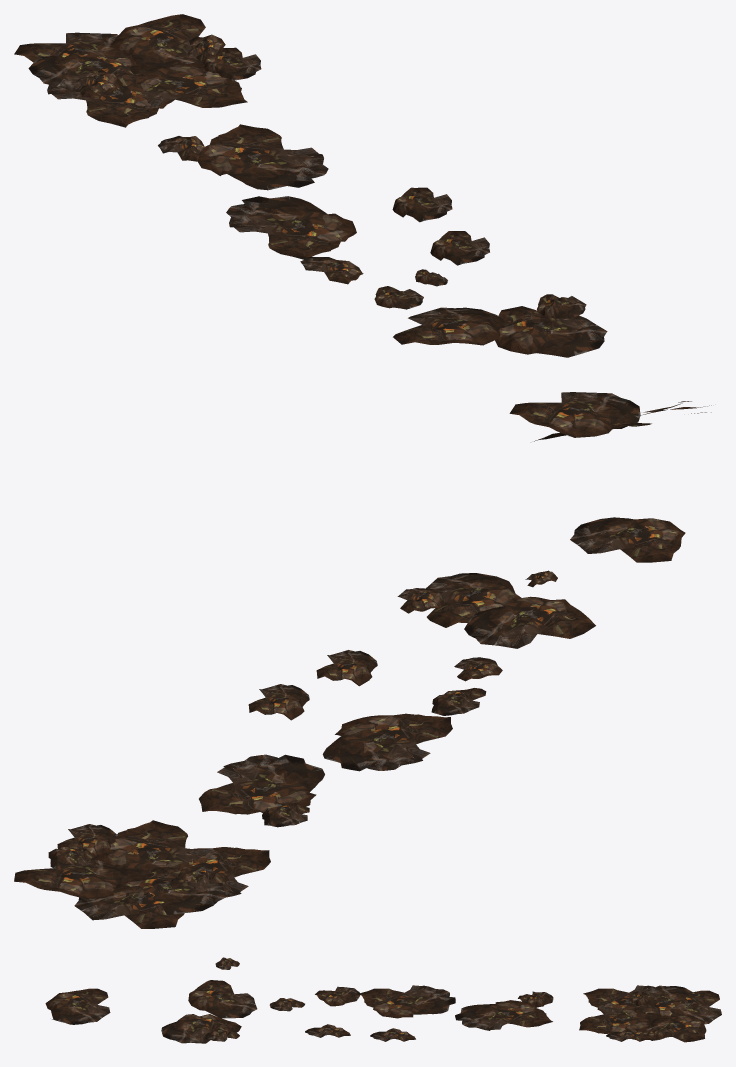
File: SM_streetgarbage.fbx
3 views of the same model, one above another, from view 1: azimuth 30°, elevation 25°; view 2: azimuth 150°, elevation 25°; view 3: azimuth 270°, elevation 25° (orthographic). The views are drawn at different scales.
Parts seen in each view (by area): view 1: SM_grbge9, SM_grbge13, SM_grbge3, SM_grbge23, SM_grbge16, SM_grbge19, SM_grbge4, SM_grbge18, SM_grbge14, SM_grbge20, SM_grbge7, SM_grbge12 (+7 smaller); view 2: SM_grbge9, SM_grbge13, SM_grbge4, SM_grbge23, SM_grbge16, SM_grbge3, SM_grbge19, SM_grbge18, SM_grbge20, SM_grbge14, SM_grbge7, SM_grbge12 (+6 smaller); view 3: SM_grbge13, SM_grbge9, SM_grbge4, SM_grbge23, SM_grbge3, SM_grbge16, SM_grbge18, SM_grbge19, SM_grbge20, SM_grbge14, SM_grbge2, SM_grbge12 (+8 smaller).
Part boxes in pixels (x1,y1,x2,y2): SM_grbge9: (197,124,328,190); SM_grbge13: (226,196,356,259); SM_grbge3: (495,306,607,357); SM_grbge23: (509,392,640,437); SM_grbge16: (130,63,247,108); SM_grbge19: (112,14,205,66); SM_grbge4: (393,307,504,345); SM_grbge18: (28,49,149,92); SM_grbge14: (47,82,174,127); SM_grbge20: (14,32,132,62); SM_grbge7: (392,187,452,222); SM_grbge12: (430,231,489,265); SM_grbge9: (199,754,324,814); SM_grbge13: (322,713,452,771); SM_grbge4: (464,596,595,648); SM_grbge23: (570,517,685,562); SM_grbge16: (96,820,219,881); SM_grbge3: (426,573,521,627); SM_grbge19: (14,857,132,899); SM_grbge18: (122,866,226,914); SM_grbge20: (74,884,184,928); SM_grbge14: (166,847,270,897); SM_grbge7: (248,684,309,720); SM_grbge12: (316,650,377,686); SM_grbge13: (360,985,455,1018); SM_grbge9: (455,1000,552,1030); SM_grbge4: (188,980,257,1018); SM_grbge23: (45,988,110,1024); SM_grbge3: (161,1014,241,1043); SM_grbge16: (579,1004,660,1033); SM_grbge18: (634,985,696,1017); SM_grbge19: (646,1016,706,1042); SM_grbge20: (667,990,721,1024); SM_grbge14: (583,985,654,1014); SM_grbge2: (315,986,360,1006); SM_grbge12: (305,1024,350,1037).
Size of the model in its own units: 335 by 137 by 1727.
